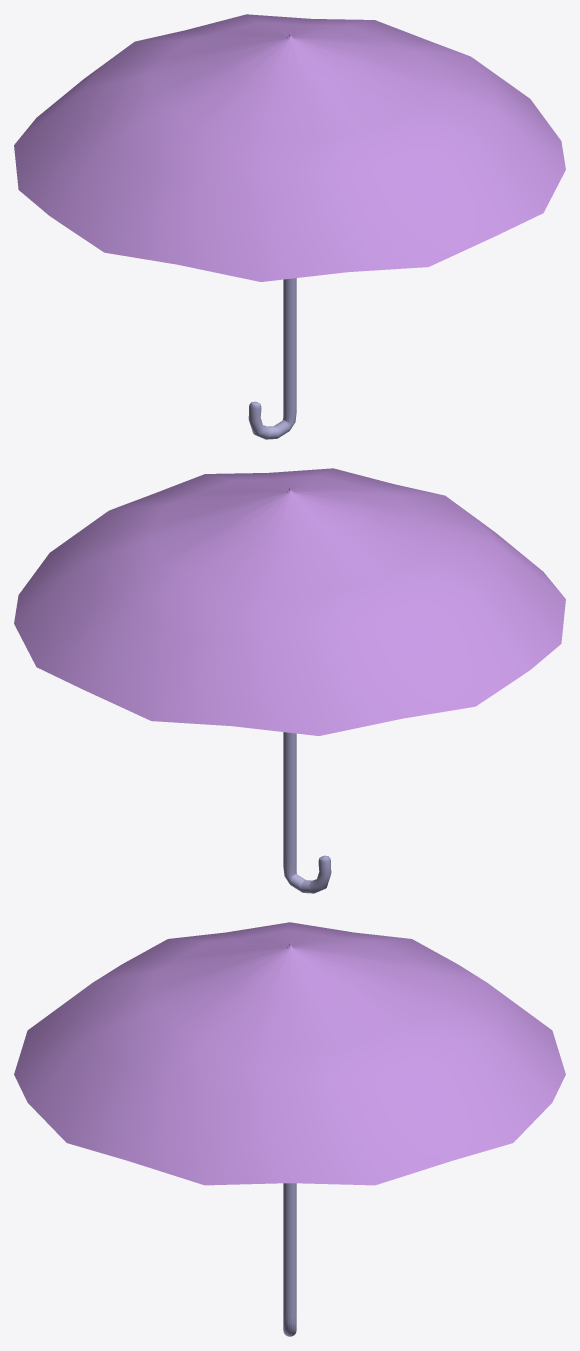
Rendered from openumb.fbx.
3 views of the same model, one above another, from view 1: azimuth 30°, elevation 25°; view 2: azimuth 150°, elevation 25°; view 3: azimuth 270°, elevation 25° (orthographic).
Visible parts, largest first — view 1: pCylinder12; view 2: pCylinder12; view 3: pCylinder12.
Part boxes in pixels (box(x1,y1,x2,y2)): pCylinder12: box(14, 14, 565, 439); pCylinder12: box(14, 468, 565, 893); pCylinder12: box(14, 922, 565, 1336).
Bounding box in the file's own units: 23.57 × 18.82 × 23.57.
